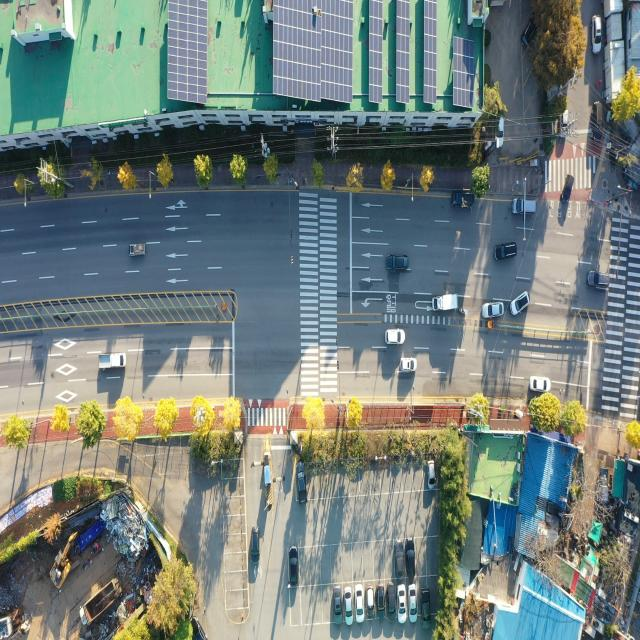car: (511, 292, 532, 316), (592, 99, 603, 142), (514, 196, 536, 216), (296, 463, 306, 502), (408, 584, 418, 622), (561, 175, 574, 204), (386, 254, 408, 271), (588, 272, 610, 289), (592, 17, 602, 54), (523, 19, 536, 47), (495, 243, 516, 260), (482, 303, 504, 319), (408, 540, 417, 578), (495, 116, 505, 149), (387, 585, 396, 620), (290, 548, 298, 587), (377, 585, 386, 619), (530, 377, 549, 393), (335, 586, 343, 624), (386, 330, 404, 346), (366, 586, 375, 618), (397, 586, 405, 622), (396, 542, 404, 578), (251, 526, 260, 558), (356, 585, 364, 620), (422, 590, 429, 627), (561, 111, 569, 141), (402, 358, 418, 371), (346, 588, 352, 622), (428, 460, 435, 487)
medium_truck: (80, 574, 124, 630)
small_truck: (434, 293, 459, 312), (99, 352, 126, 368), (451, 190, 475, 208), (130, 244, 146, 257)
